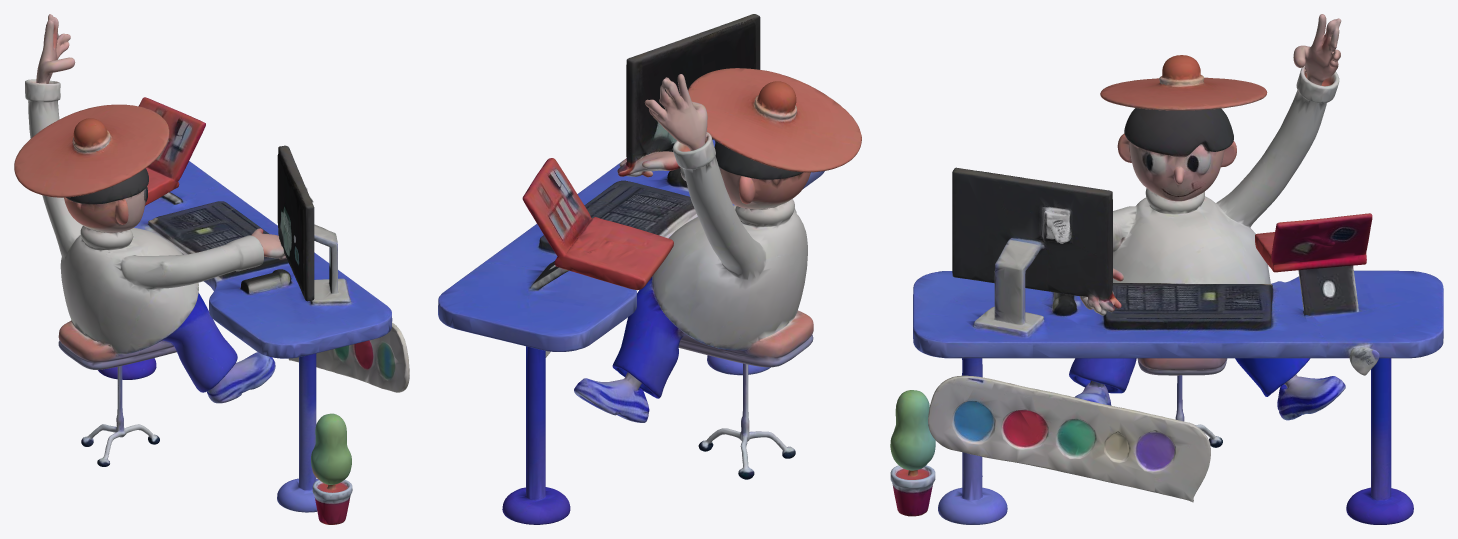
Rendered from desk.glb.
3 renders of one model, left to right at view 1: azimuth 30°, elevation 25°; view 2: azimuth 150°, elevation 25°; view 3: azimuth 270°, elevation 25°, orthographic. The views are drawn at different scales.
Parts seen in each view (by area): view 1: tripo_node_5c8e85a2-5a28-4a6b-89c3-bd2d74b3c7d9; view 2: tripo_node_5c8e85a2-5a28-4a6b-89c3-bd2d74b3c7d9; view 3: tripo_node_5c8e85a2-5a28-4a6b-89c3-bd2d74b3c7d9.
Boxes of the visible parts, x1=… form: tripo_node_5c8e85a2-5a28-4a6b-89c3-bd2d74b3c7d9: x1=14, y1=14, x2=409, y2=524; tripo_node_5c8e85a2-5a28-4a6b-89c3-bd2d74b3c7d9: x1=438, y1=14, x2=861, y2=524; tripo_node_5c8e85a2-5a28-4a6b-89c3-bd2d74b3c7d9: x1=890, y1=14, x2=1443, y2=524.
Size of the model in its own units: 0.6414 by 0.8793 by 0.9999.
1 material, 1 textured.
